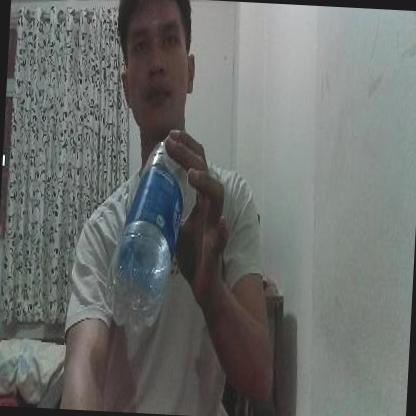plastic_bottles: (102, 128, 199, 322)
